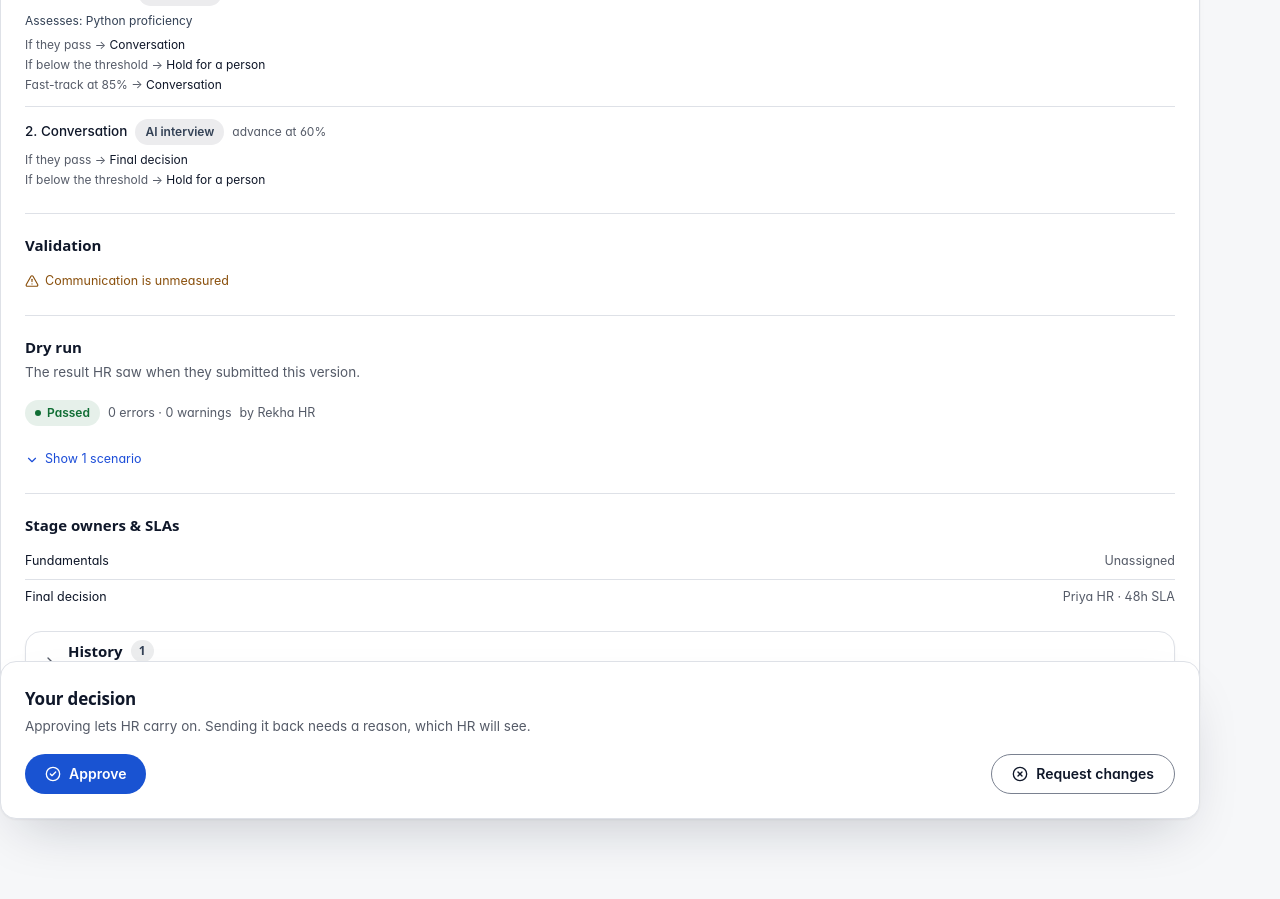
Test: WorkflowReviews - one version in full › says a candidate who waits for a person is not a failure (auto-advance off)
(page scrolled)
Expected: the text "Fundamentals" is shown, [25,552,109,571]
Click the button "Show 1 scenario". click: coordinates (83, 460)
box: [25,450,142,469]
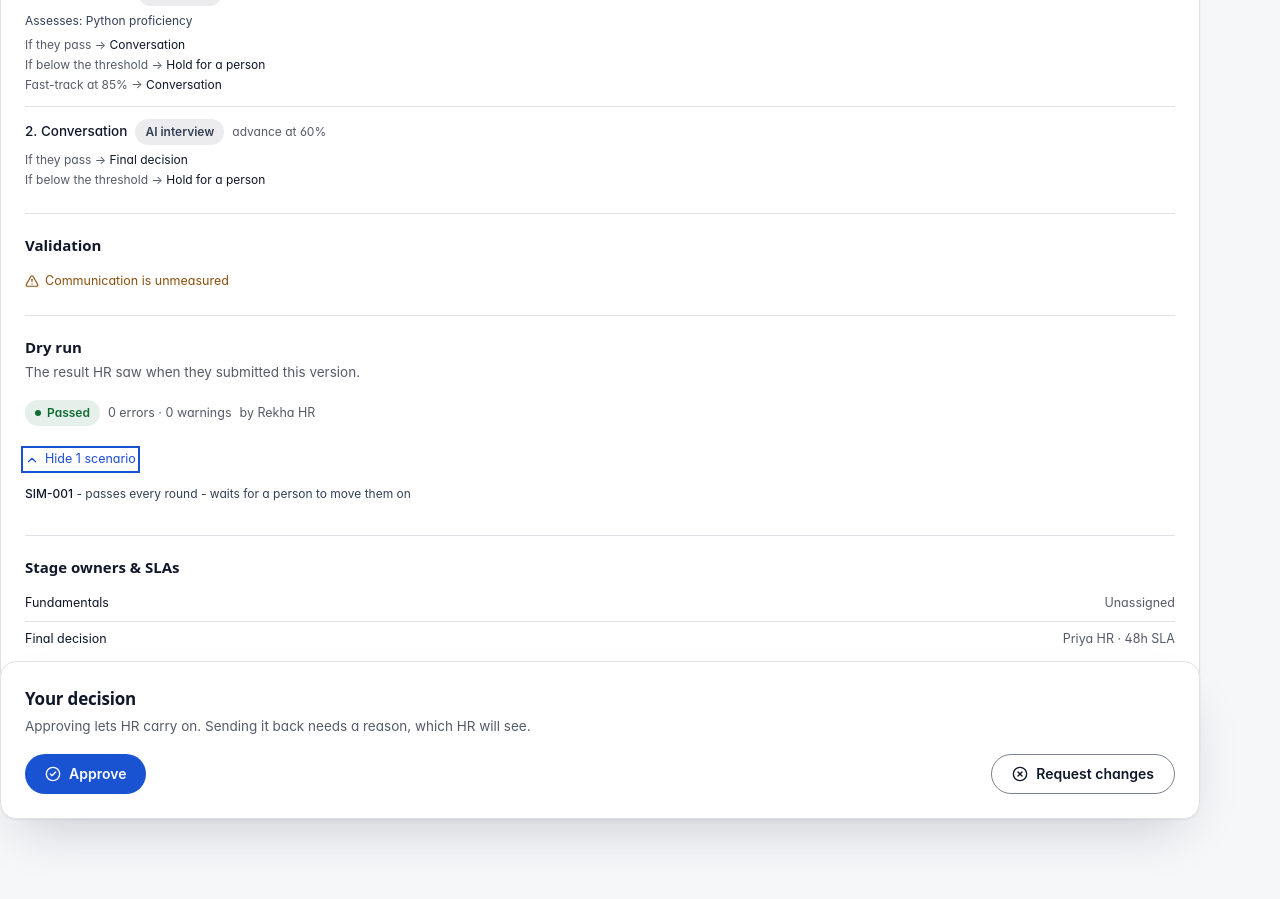
Result: the list item "waits for a person to move them on" is shown at [210,486,411,501]
